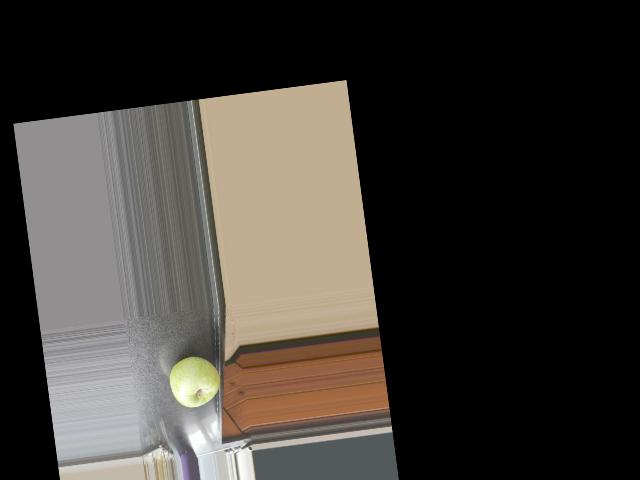apple: (163, 350, 224, 413)
